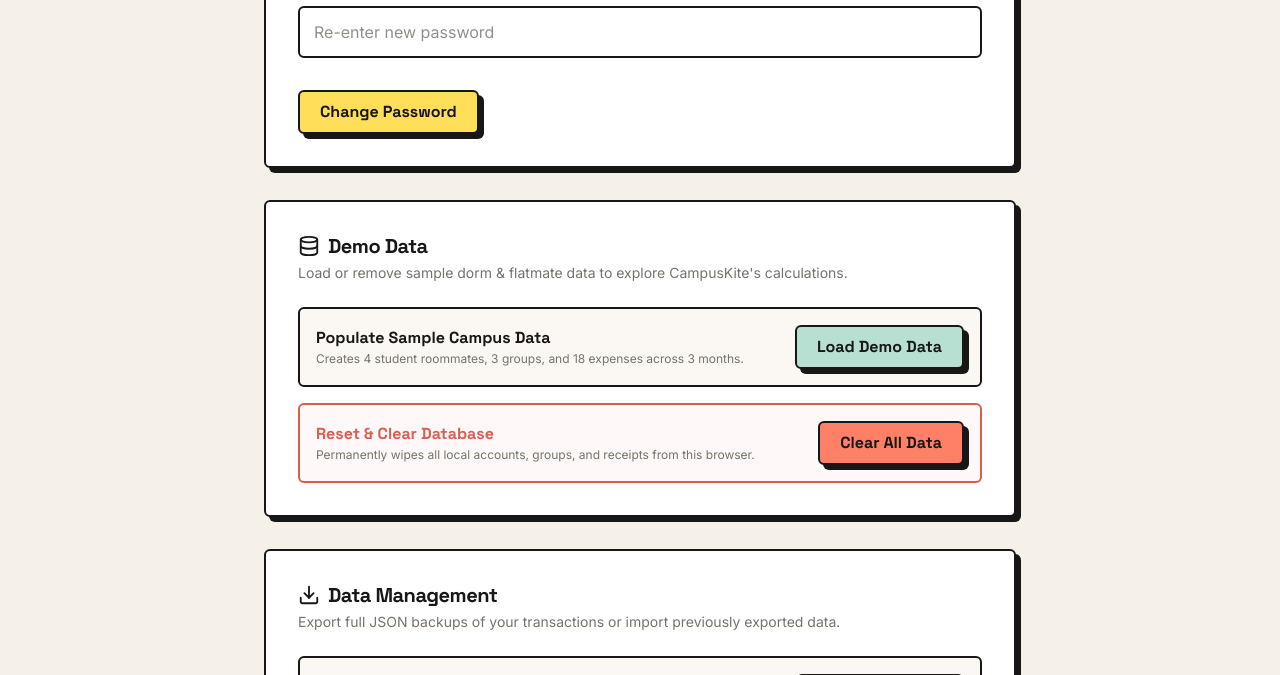
Test: Settings Page › Section 3: triggers confirmation dialogs for loading and clearing demo data
Later steps or results of the test are not shown.
(page scrolled)
Test Load Demo Data Dialog
Click the button "Load Demo Data".
click(879, 347)  # box [795,325,964,369]
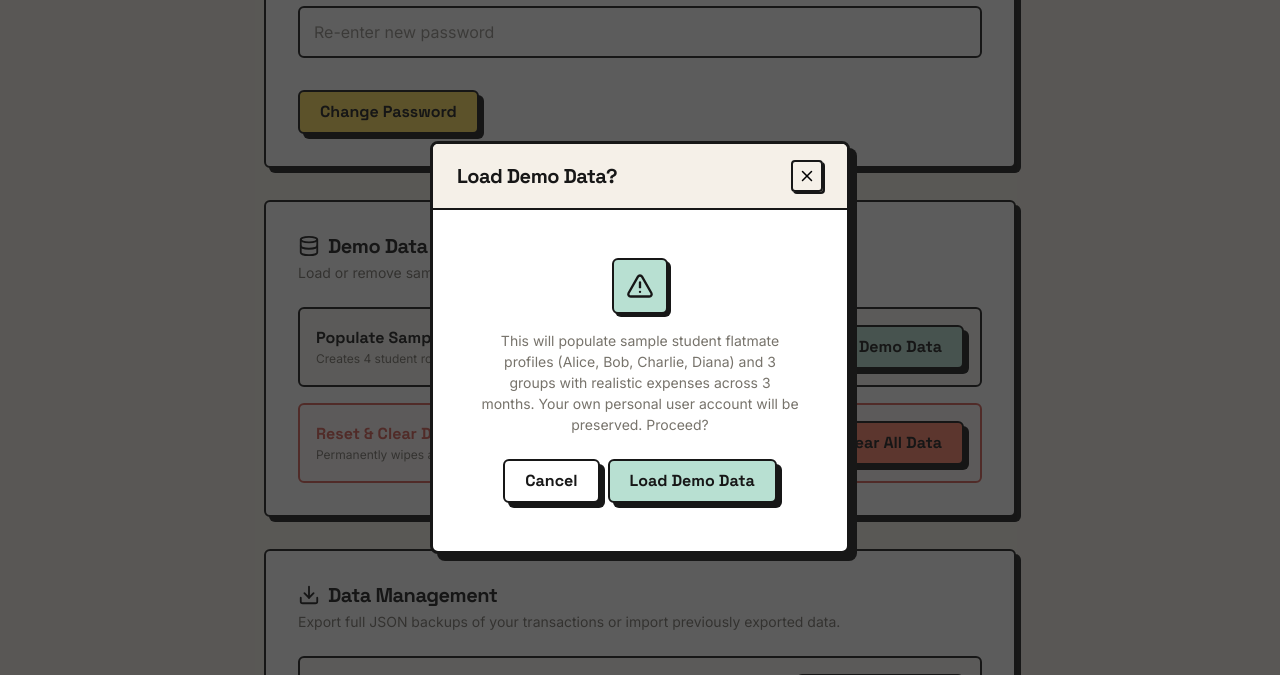
Now the heading "Load Demo Data?" is shown, box [457,164,617,188]
Click the button "Load Demo Data".
click(692, 480)  # box [608,458,777,502]
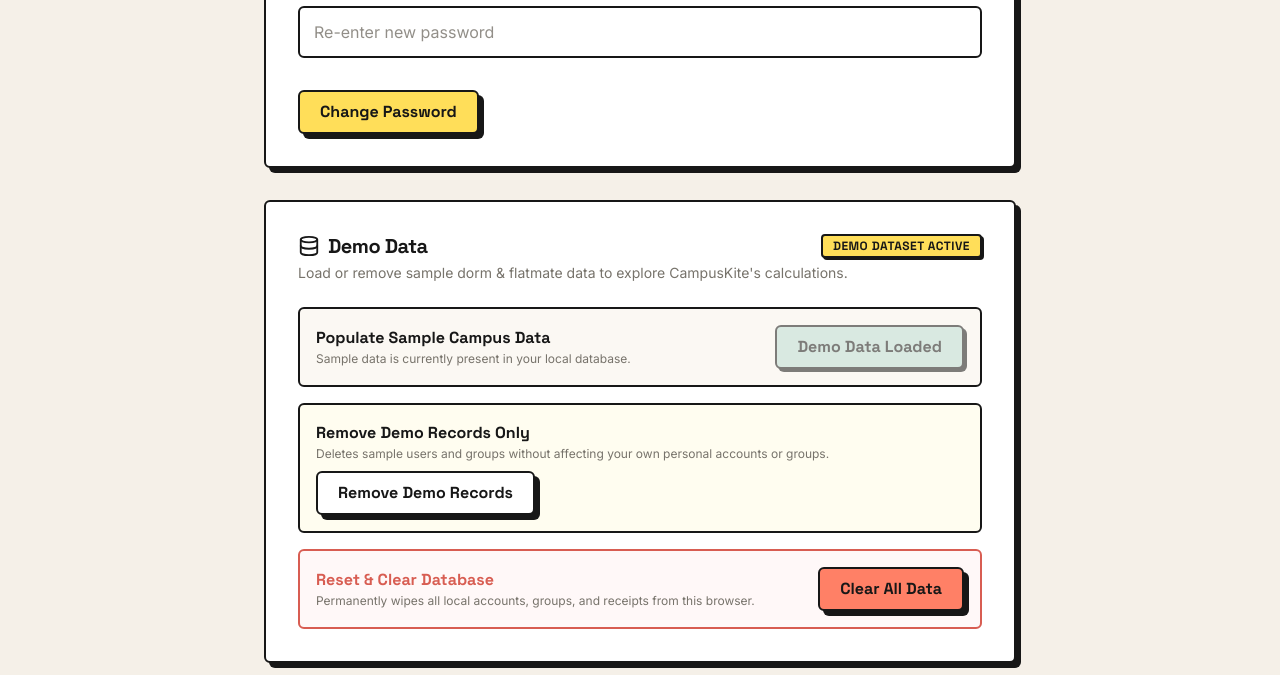
Test Clear All Data Dialog
Click the button "Clear All Data".
click(891, 589)  # box [818,567,964,611]
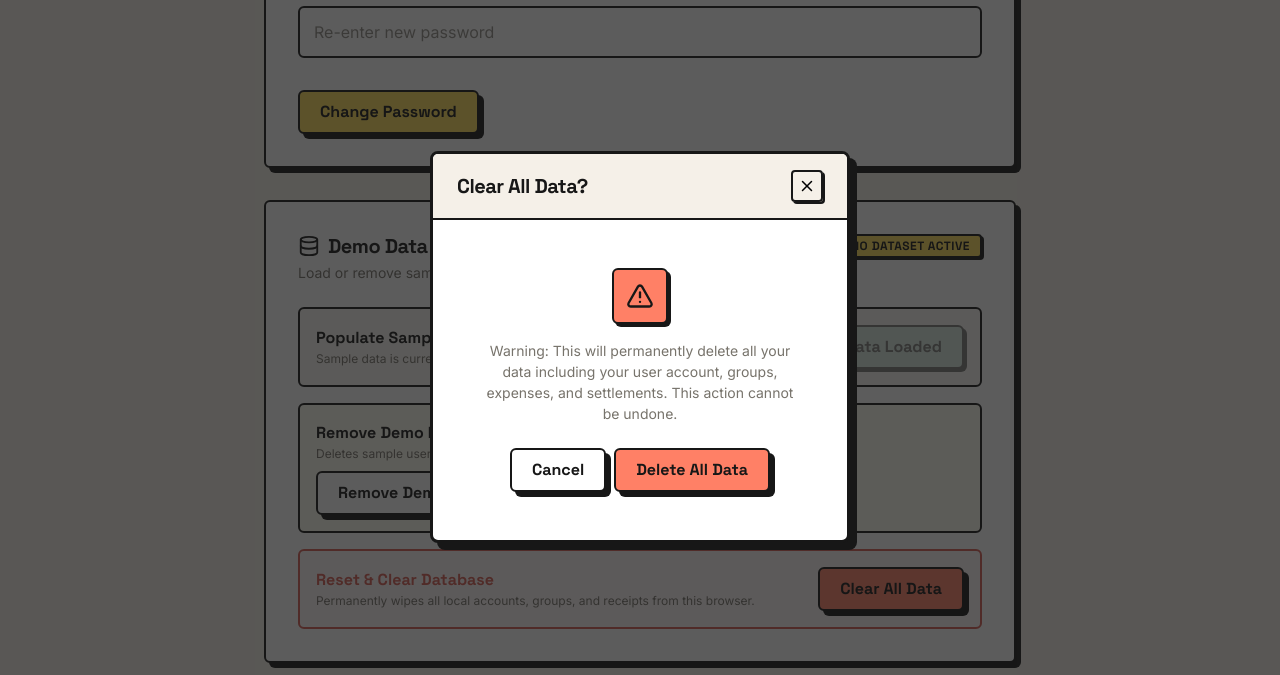
Now the heading "Clear All Data?" is shown, box [457,174,588,198]
